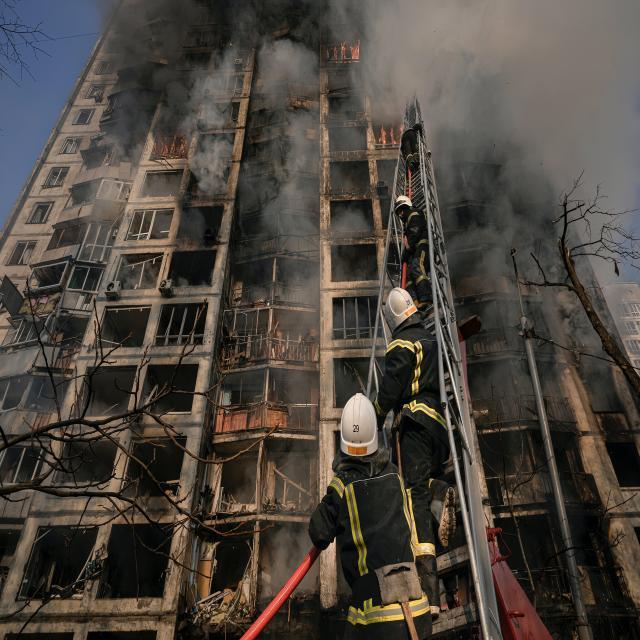Smoke: (373, 3, 636, 108), (119, 0, 319, 73)
